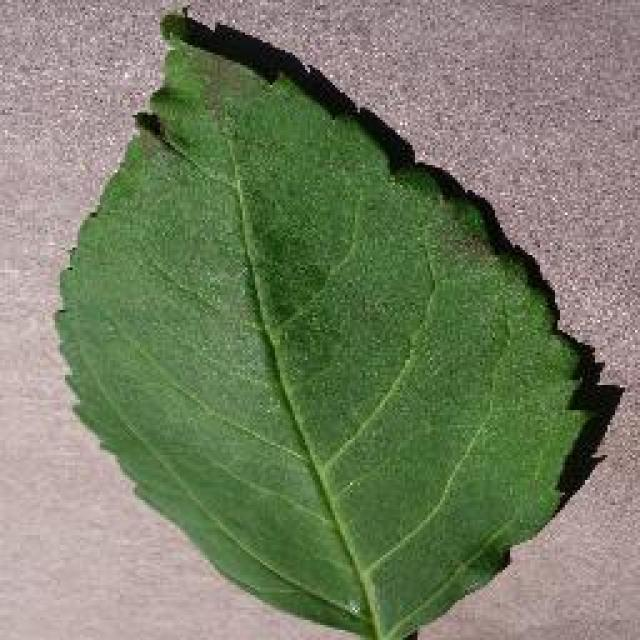Cherry___healthy: (40, 5, 602, 640)
